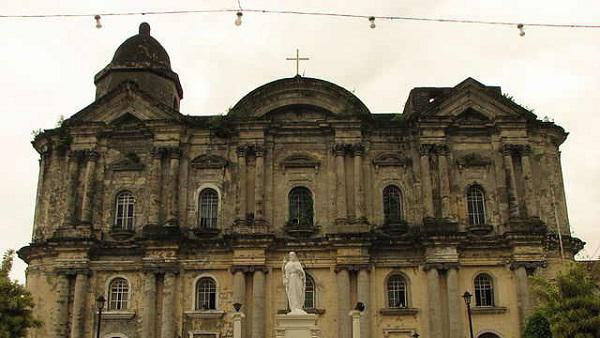taal_basilica_church_taal_batangas: (18, 16, 579, 338)
